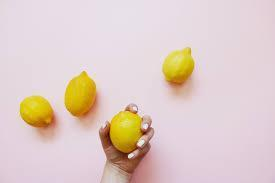lemon: (64, 70, 96, 117), (110, 111, 143, 153), (162, 46, 194, 84), (19, 95, 54, 127)
